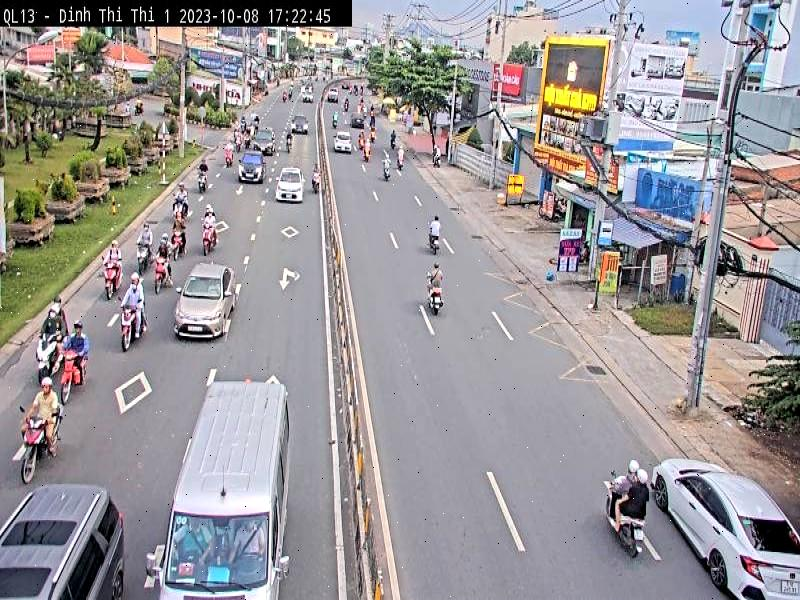car: (146, 381, 292, 600), (651, 456, 800, 600), (0, 482, 124, 600), (174, 260, 235, 340), (274, 167, 304, 203), (238, 152, 266, 184), (253, 126, 276, 155), (334, 130, 352, 155), (290, 115, 310, 136)
motorcycle: (19, 402, 64, 482), (604, 471, 644, 558), (57, 347, 88, 406), (36, 330, 70, 382), (117, 298, 142, 352), (101, 255, 122, 299), (152, 256, 172, 296)
